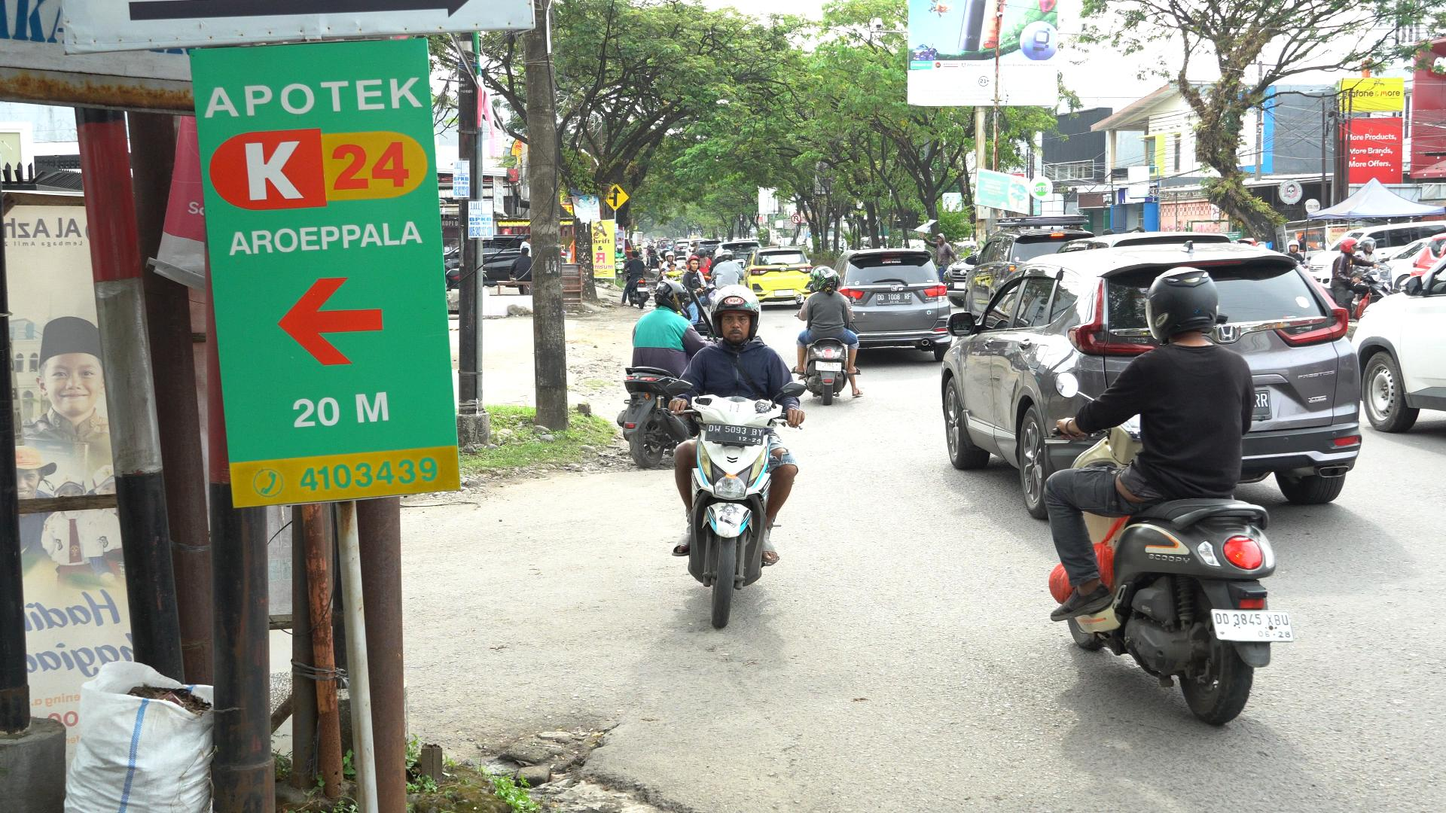number-plate: (707, 423, 765, 447)
